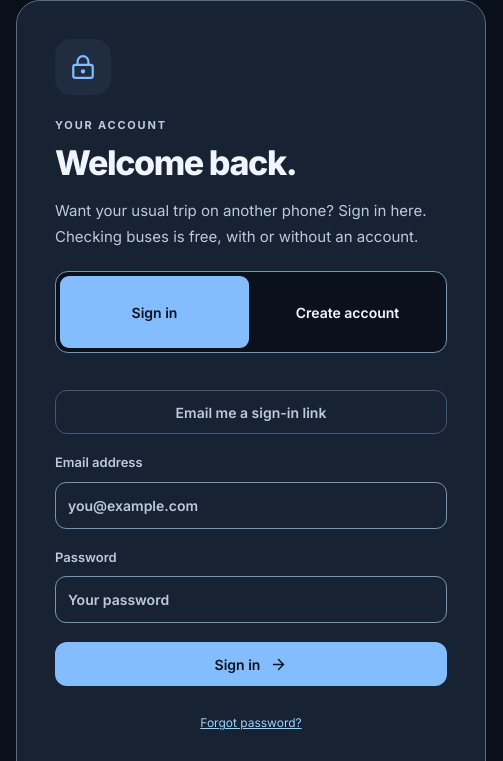
Test case: commute UI › submits sign-in credentials and shows a server error
Type "employee@example.com" into the field labelled "Email address". click: (251, 505)
box: [55,482,447,529]
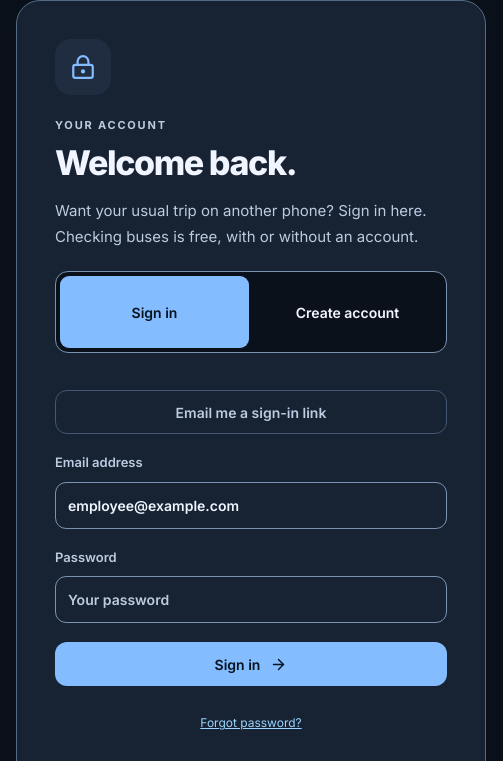
Type "example-password" into the password field labelled "Password". click: (251, 600)
box: [55,576,447,623]
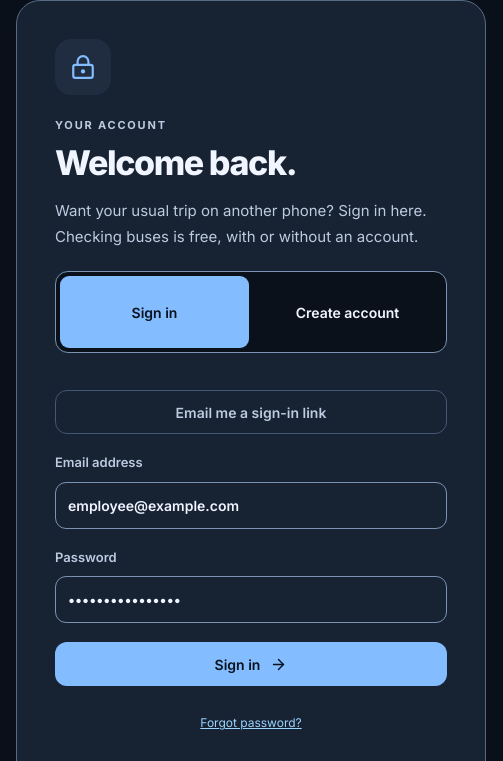
Click the submit button. click: (251, 664)
box: [55,642,447,686]
(page scrolled)
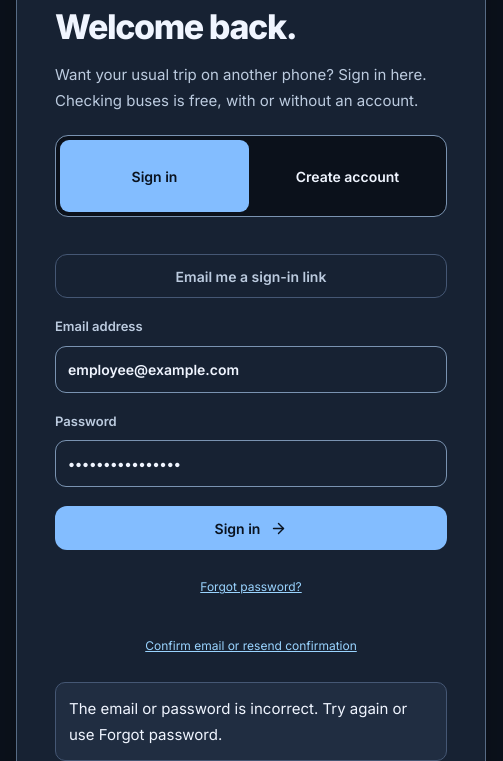
Expected: the message reads "The email or password is incorrect. Try again or use Forgot password.", [69,699,407,744]
